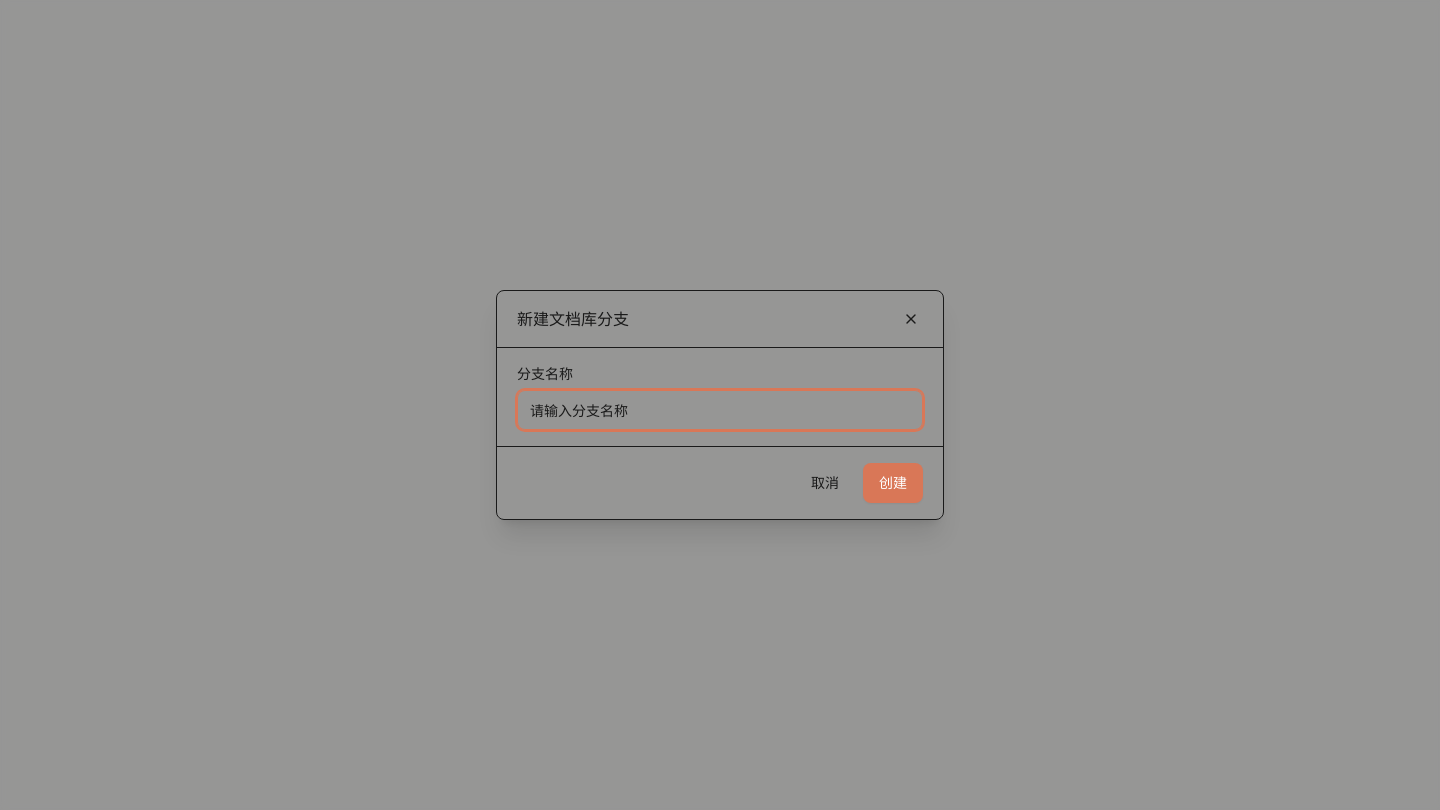
Test: CreateFolderModal 组件 › 空名称提交 - 显示错误
The width and height of the screenshot is (1440, 810).
Click the button "创建".
click(893, 483)  # box [863,463,923,503]
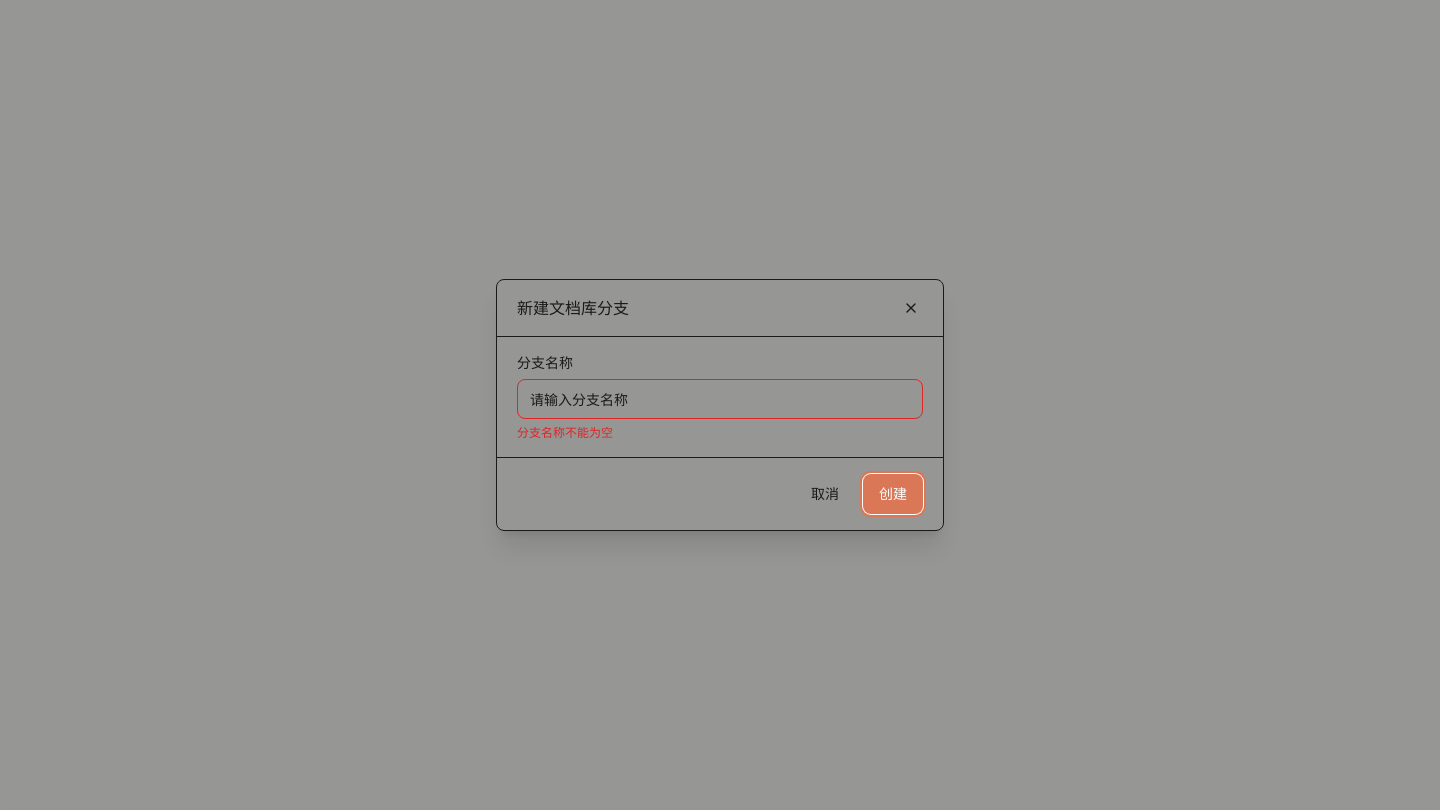
Now the text "分支名称不能为空" is shown, box [517,425,613,440]
